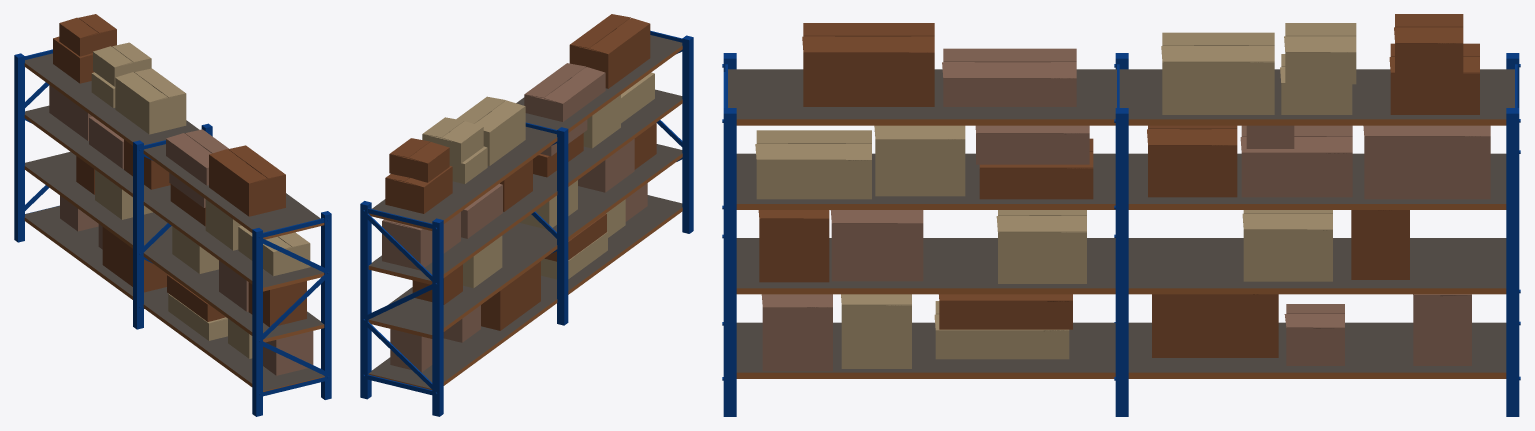
The model's file is Etagère cartons.fbx.
3 views of the same model, side by side, from view 1: azimuth 30°, elevation 25°; view 2: azimuth 150°, elevation 25°; view 3: azimuth 270°, elevation 25° (orthographic). The views are drawn at different scales.
Visible parts, largest first — view 1: polySurface30; view 2: polySurface30; view 3: polySurface30.
Boxes of the visible parts, x1,y1,x2,y2 form: polySurface30: [14, 14, 331, 416]; polySurface30: [360, 14, 693, 416]; polySurface30: [722, 14, 1520, 416].
Bounding box in the file's own units: 1.41 × 3.99 × 7.86.
